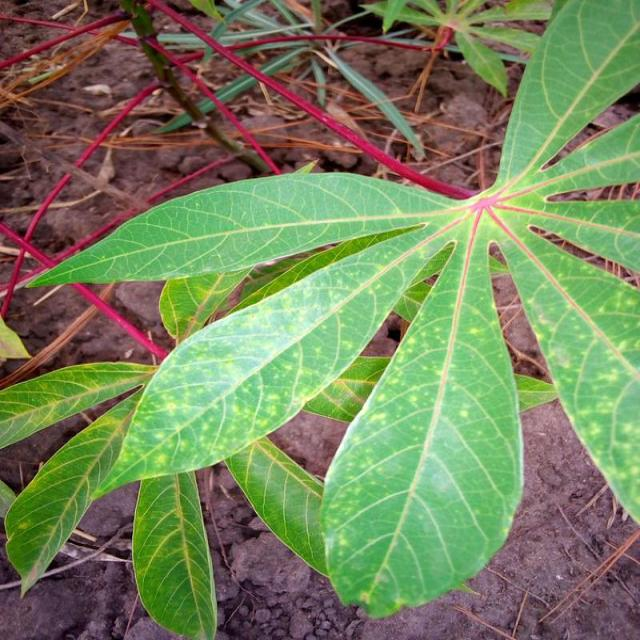cassava leaf: (1, 0, 638, 631), (318, 218, 524, 618)
